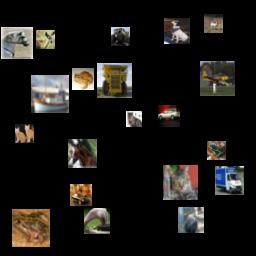airplane: (200, 61, 235, 96)
automobile: (70, 184, 92, 206), (158, 105, 180, 127)
bird: (178, 207, 204, 233), (84, 208, 110, 234)
cat: (163, 165, 198, 200), (15, 124, 34, 143), (126, 111, 142, 127)
deer: (204, 14, 223, 33), (36, 30, 55, 49)
dog: (164, 18, 190, 44)
frog: (12, 209, 50, 247), (72, 68, 94, 90), (207, 141, 226, 160)
ship: (31, 75, 69, 113)
truck: (97, 63, 132, 98), (215, 166, 244, 195), (111, 27, 130, 46)
